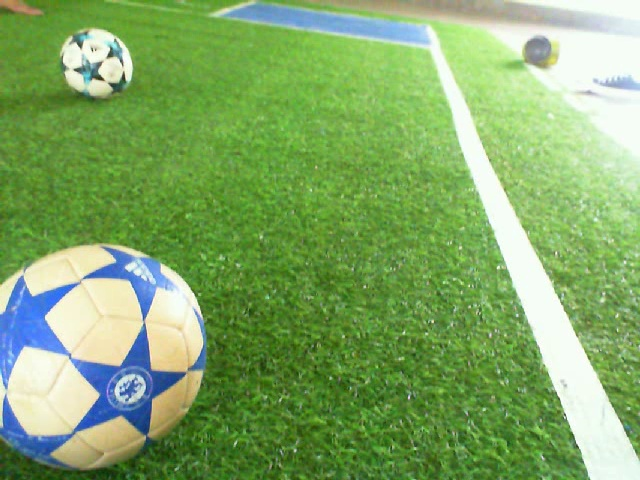ball: (1, 239, 208, 474), (58, 25, 135, 102)
